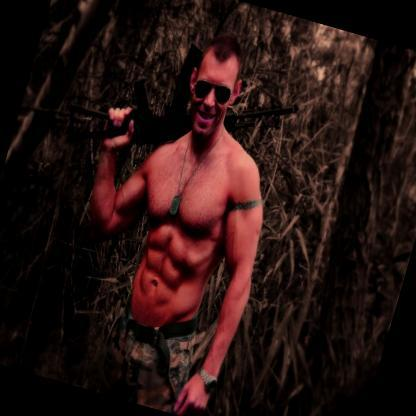rifle: (51, 0, 322, 215)
